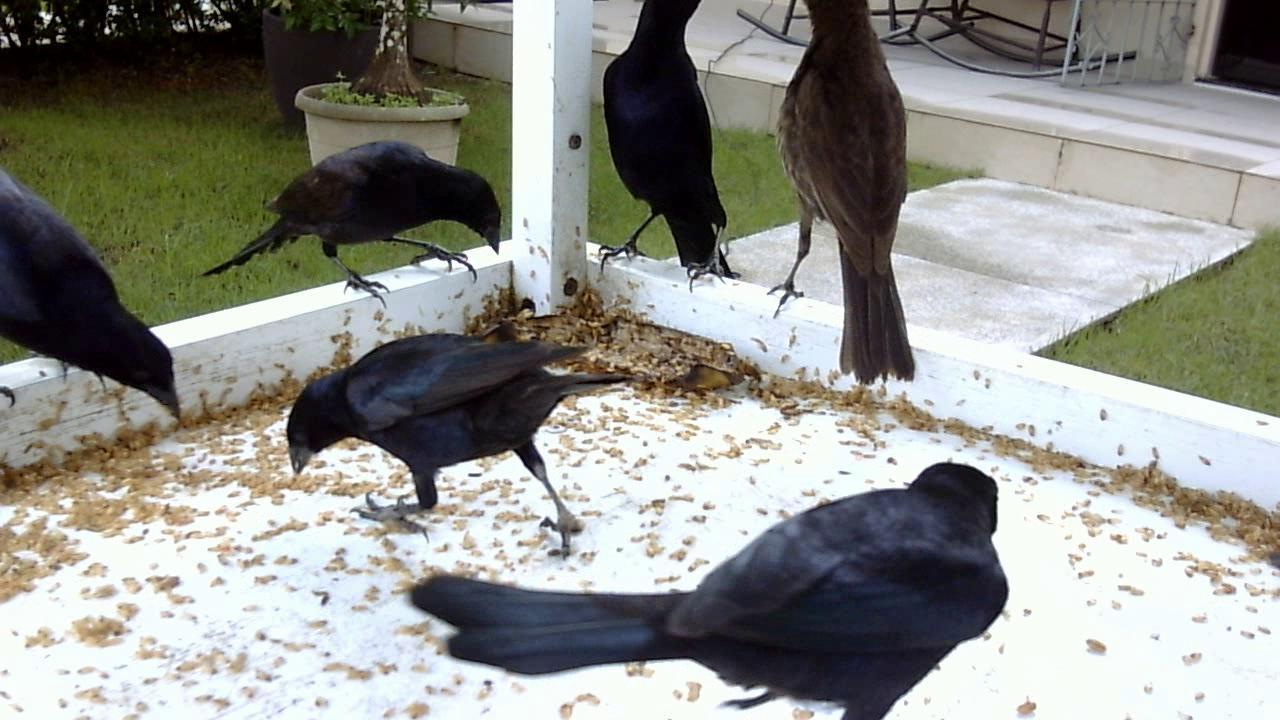chupim: (431, 437, 1016, 712), (275, 313, 652, 556), (751, 3, 939, 400), (1, 146, 187, 482), (186, 133, 507, 315), (584, 1, 737, 304)
